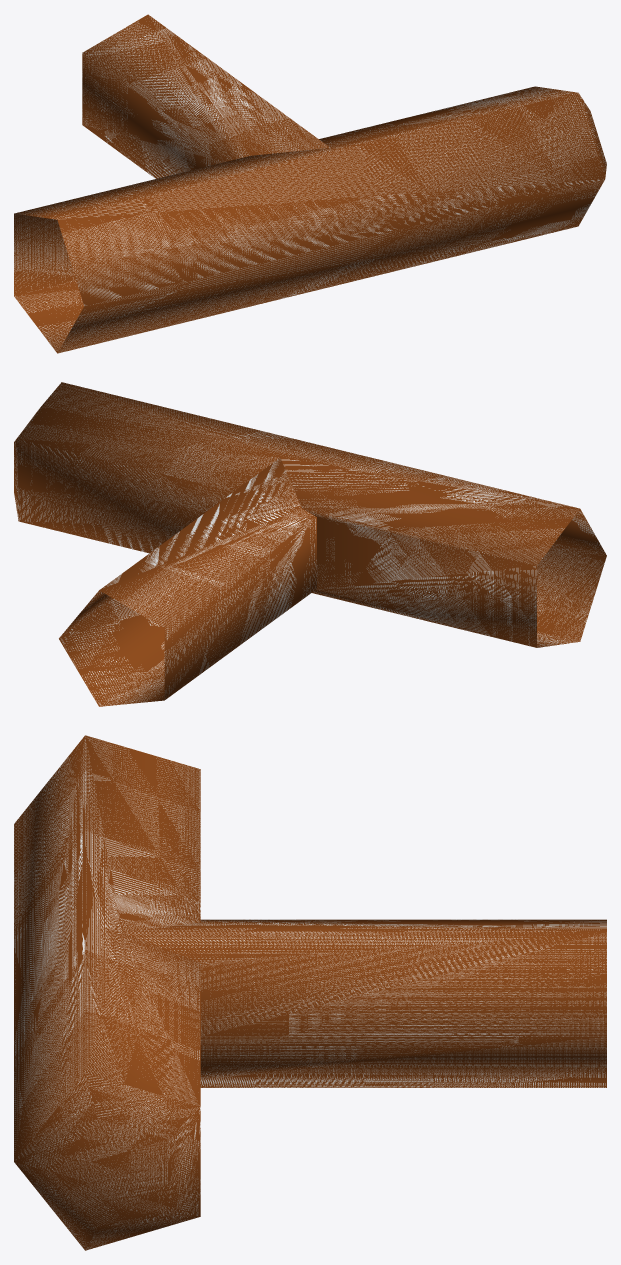
The model's file is original-41.obj.
3 renders of one model, top to bottom at view 1: azimuth 30°, elevation 25°; view 2: azimuth 150°, elevation 25°; view 3: azimuth 270°, elevation 25°, orthographic. The views are drawn at different scales.
Visible parts, largest first — view 1: bpe21_2/bpe21/mesh14/mesh14-geometry#mesh14-geometry; view 2: bpe21_2/bpe21/mesh14/mesh14-geometry#mesh14-geometry; view 3: bpe21_2/bpe21/mesh14/mesh14-geometry#mesh14-geometry.
Part boxes in pixels (x1,y1,x2,y2): bpe21_2/bpe21/mesh14/mesh14-geometry#mesh14-geometry: (14,14,606,353); bpe21_2/bpe21/mesh14/mesh14-geometry#mesh14-geometry: (14,382,606,706); bpe21_2/bpe21/mesh14/mesh14-geometry#mesh14-geometry: (14,735,606,1250).
Bounding box in the file's own units: 0.0576 × 0.0137 × 0.0414.
